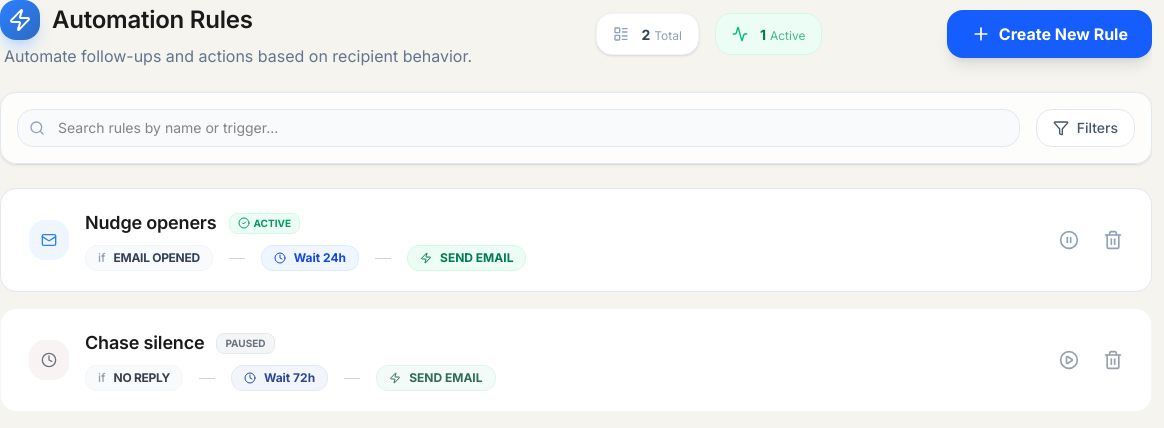
AutomationRules page › filters rules by name
Expected: the heading "Nudge openers" is shown, [85, 209, 216, 237]
Type "chase" into the field with placeholder "Search rules by name or trigger..." at (518, 128), box [17, 109, 1020, 147]
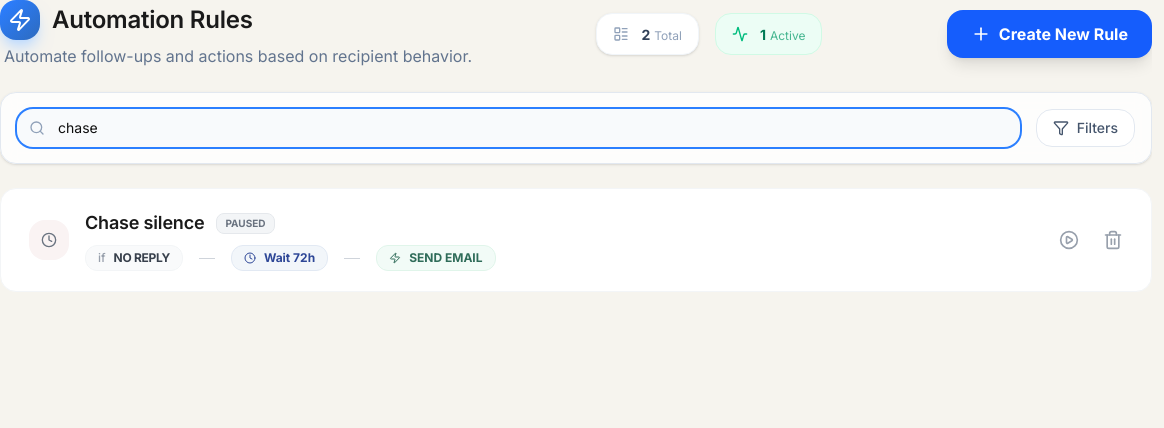
Expected: the heading "Chase silence" is shown, [85, 209, 204, 237]
Expected: the heading "Nudge openers" is gone
